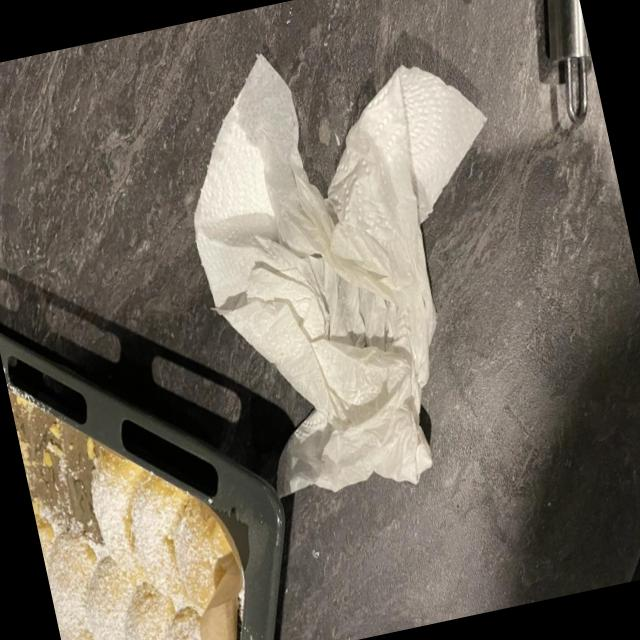organic waste: (158, 7, 562, 528)
